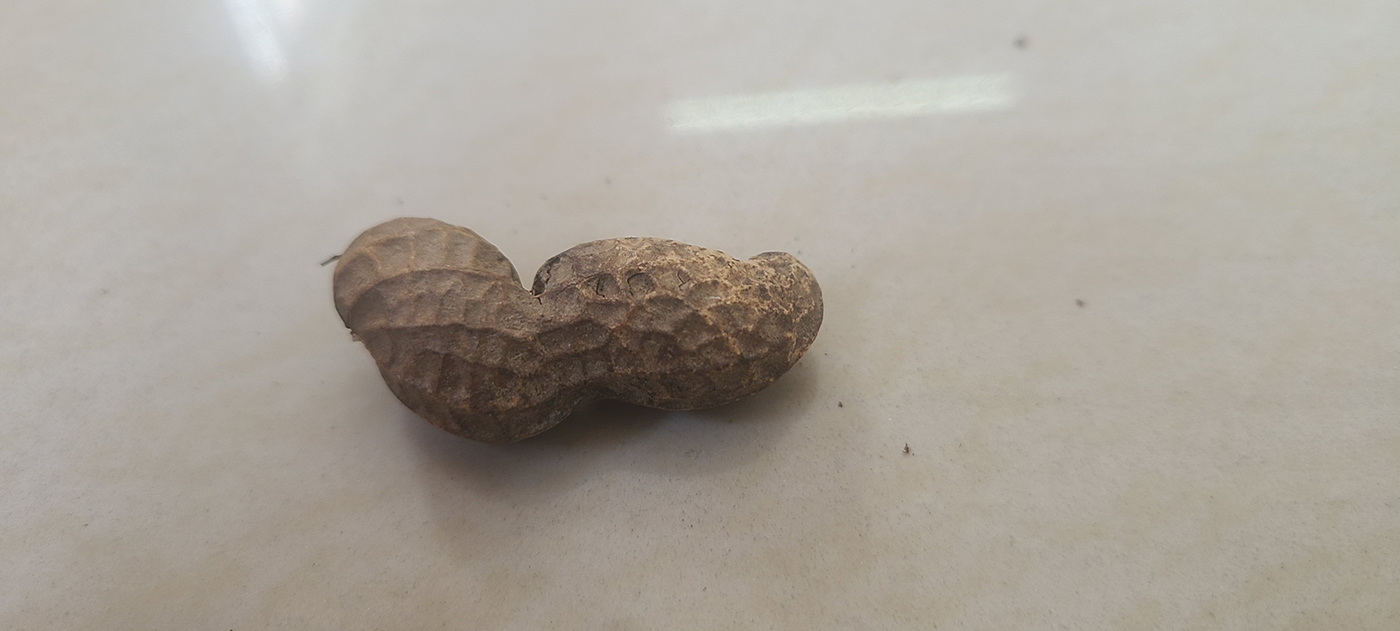l: (328, 214, 824, 444)
